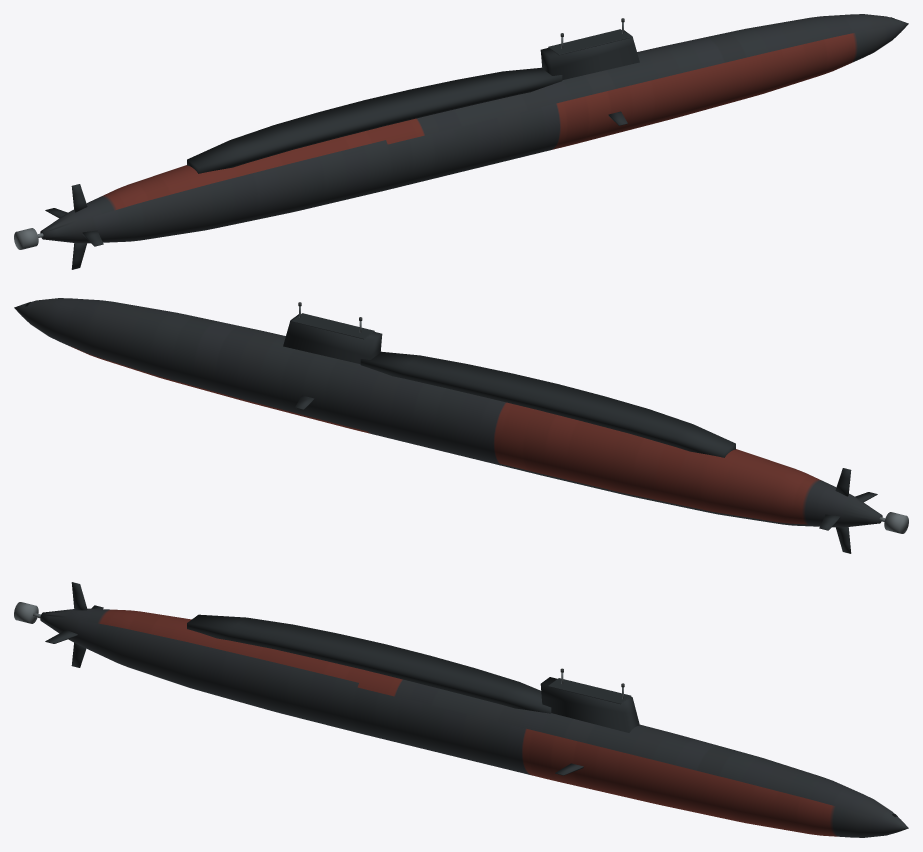
The model's file is US_SSBN_Columbia_LOD1.fbx.
The picture shows the model from 3 angles, top to bottom: view 1: azimuth 30°, elevation 25°; view 2: azimuth 150°, elevation 25°; view 3: azimuth 330°, elevation 25°; orthographic projection.
Visible parts, largest first — view 1: US_SSBN_Columbia_LOD1; view 2: US_SSBN_Columbia_LOD1; view 3: US_SSBN_Columbia_LOD1.
Boxes of the visible parts, x1,y1,x2,y2 form: US_SSBN_Columbia_LOD1: (14, 14, 908, 269); US_SSBN_Columbia_LOD1: (14, 298, 908, 553); US_SSBN_Columbia_LOD1: (14, 582, 908, 837).
Size of the model in its own units: 176 by 21.95 by 21.93.
6 materials, 1 textured.
